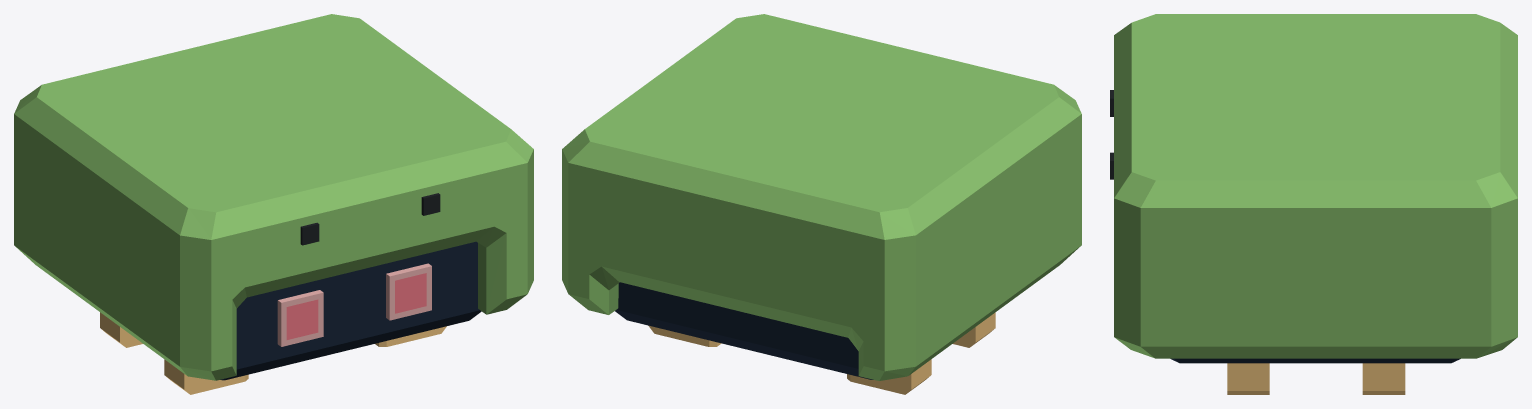
File: model_shiny.obj
3 renders of one model, left to right at view 1: azimuth 30°, elevation 25°; view 2: azimuth 150°, elevation 25°; view 3: azimuth 270°, elevation 25°, orthographic. The views are drawn at different scales.
Parts seen in each view (by area): view 1: 0140_kabuto_shiny; view 2: 0140_kabuto_shiny; view 3: 0140_kabuto_shiny.
Boxes of the visible parts, x1,y1,x2,y2 form: 0140_kabuto_shiny: [14, 14, 533, 394]; 0140_kabuto_shiny: [562, 14, 1081, 394]; 0140_kabuto_shiny: [1110, 14, 1517, 394].
Size of the model in its own units: 1.16 by 0.6889 by 1.09.
Materials: 1 (1 with a texture image).
